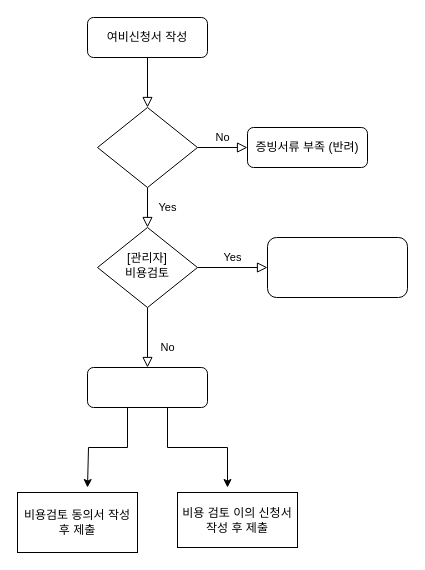
The diagram is 425 pixels wide and 570 high, and some of its shapes have lost their labels. Each missing label, with the centre of its shape:
"[관리자] 결재 비용 확인" belongs at (x=147, y=147).
"결재처리 개인/법인 환급구조 결산" belongs at (x=337, y=267).
"사용자 비용검토 목록 확인" belongs at (x=147, y=387).
